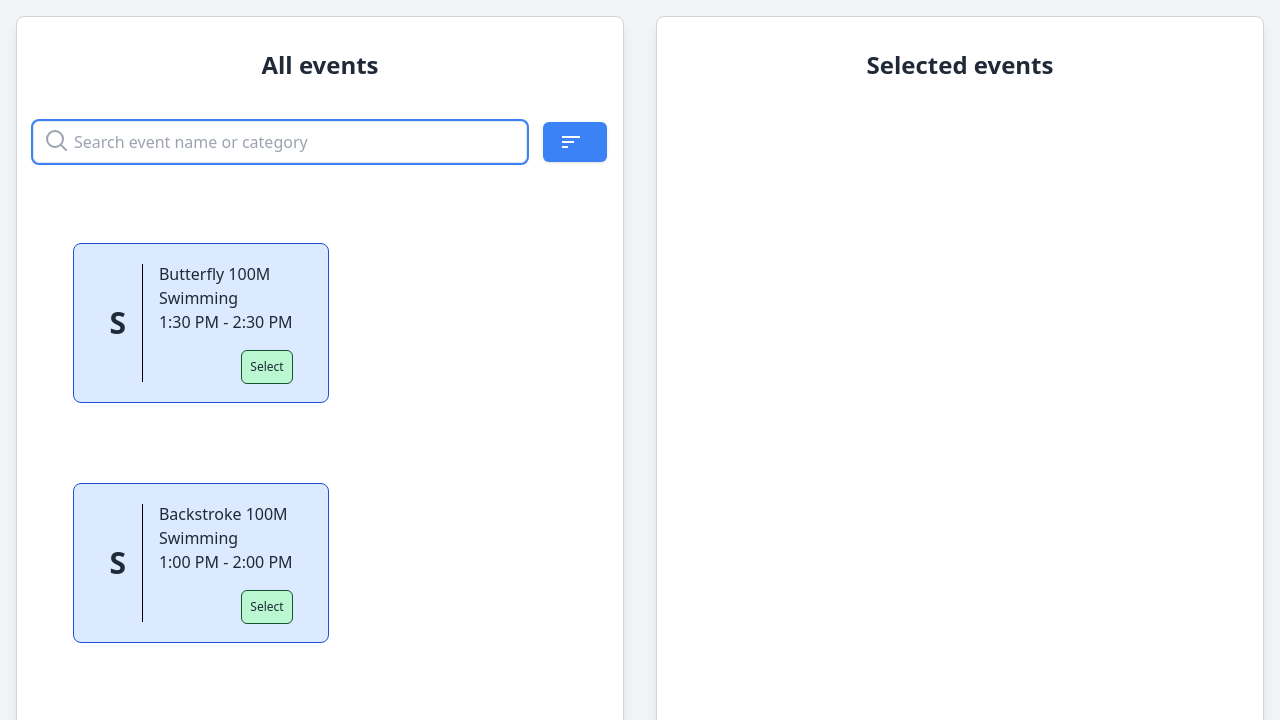
Events Component › displace loading spinner when saving events
Click the button "Select" below "1:30 PM". click: click(267, 367)
box: left=241, top=350, right=293, bottom=384
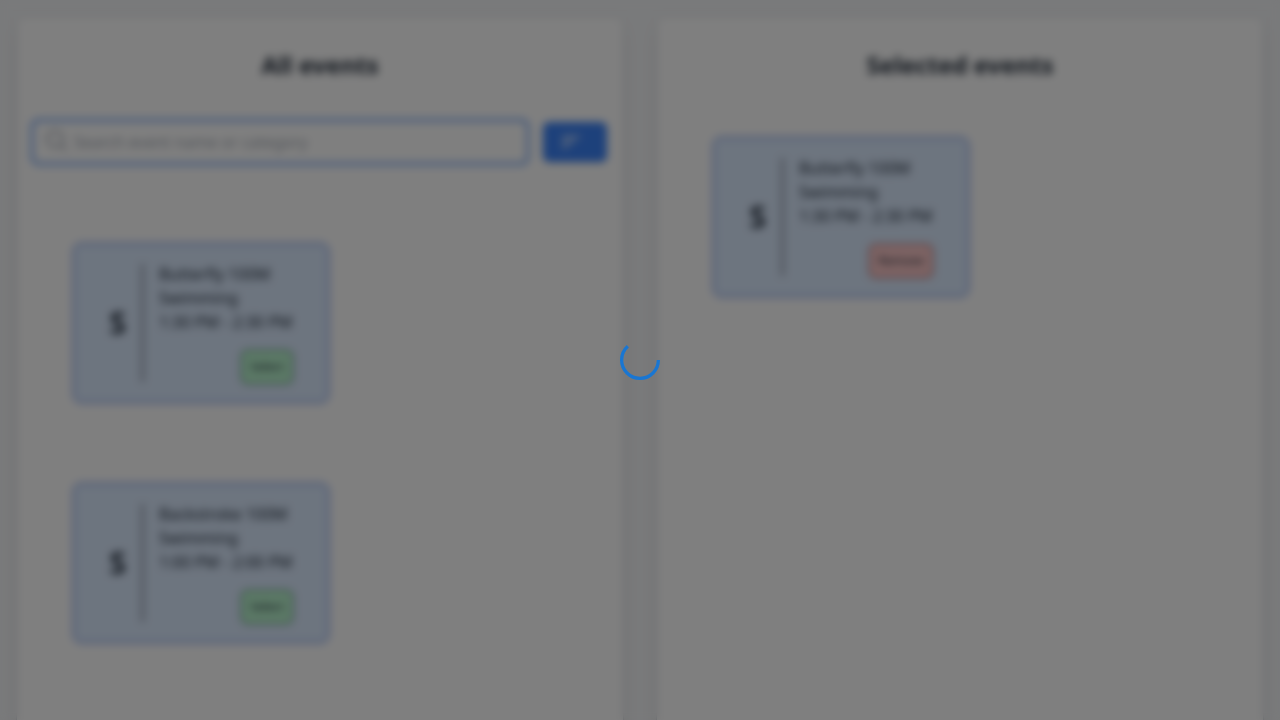
Now the progress indicator is shown, box left=620, top=340, right=660, bottom=380
